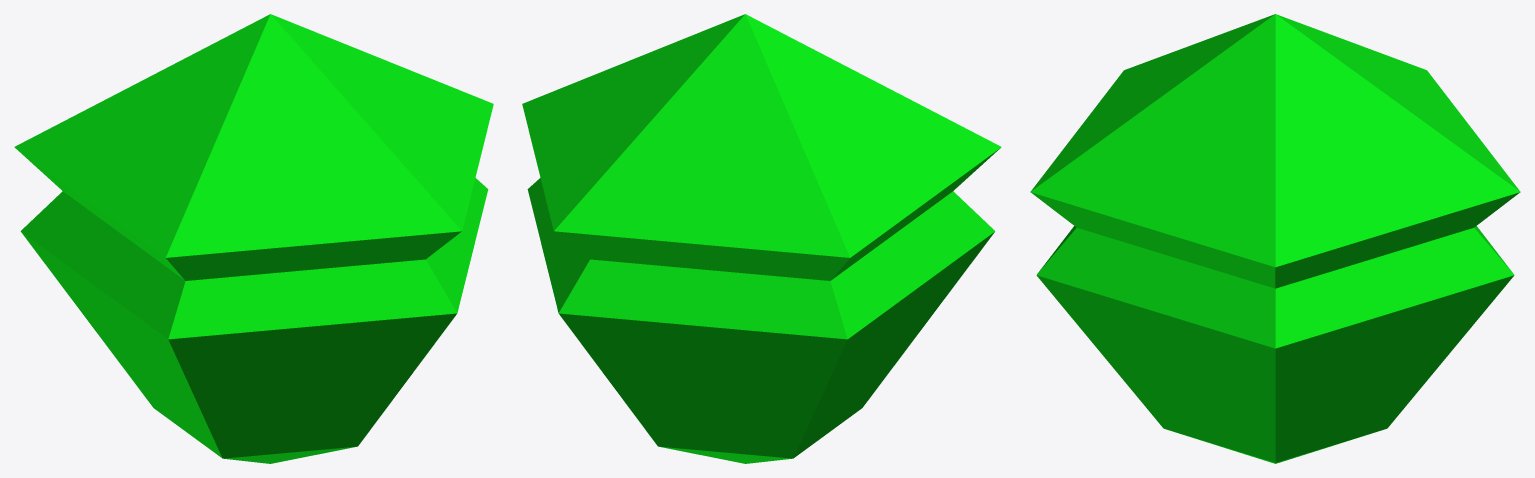
File: GemGreen.glb
The picture shows the model from 3 angles, left to right: view 1: azimuth 30°, elevation 25°; view 2: azimuth 150°, elevation 25°; view 3: azimuth 270°, elevation 25°; orthographic projection.
Parts seen in each view (by area): view 1: GreenGem; view 2: GreenGem; view 3: GreenGem.
Boxes of the visible parts, x1,y1,x2,y2 form: GreenGem: (14, 14, 493, 463); GreenGem: (522, 14, 1001, 463); GreenGem: (1030, 14, 1520, 463).
Size of the model in its own units: 1.11 by 1.18 by 1.17.
